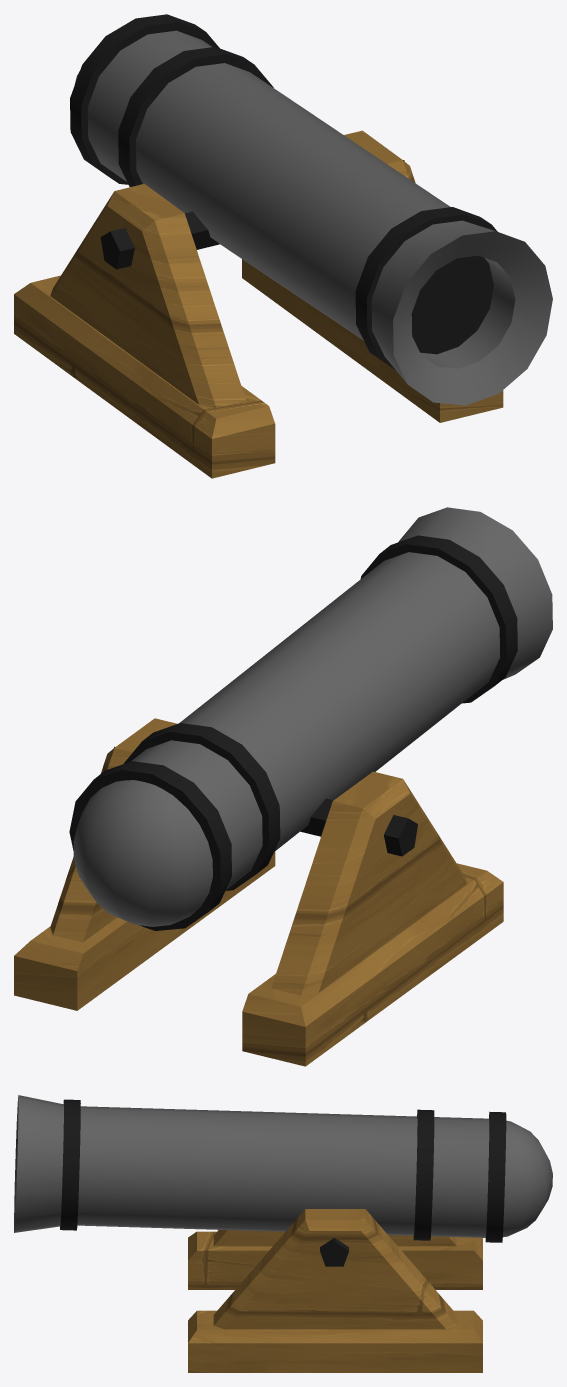
The model's file is cannonv2_model.fbx.
3 renders of one model, top to bottom at view 1: azimuth 30°, elevation 25°; view 2: azimuth 150°, elevation 25°; view 3: azimuth 270°, elevation 25°, orthographic. The views are drawn at different scales.
Parts seen in each view (by area): view 1: polySurface17, pCube6; view 2: polySurface17, pCube6; view 3: polySurface17, pCube6.
Part boxes in pixels (x1,y1,x2,y2): polySurface17: (70, 14, 552, 405); pCube6: (14, 130, 503, 478); polySurface17: (69, 507, 552, 930); pCube6: (14, 718, 503, 1066); polySurface17: (14, 1095, 552, 1242); pCube6: (188, 1209, 482, 1372).
Size of the model in its own units: 8.44 by 8.03 by 17.97.
